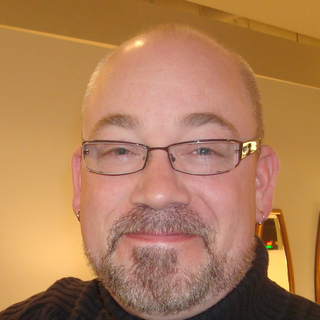eye: (178, 142, 227, 161), (99, 142, 139, 160)
